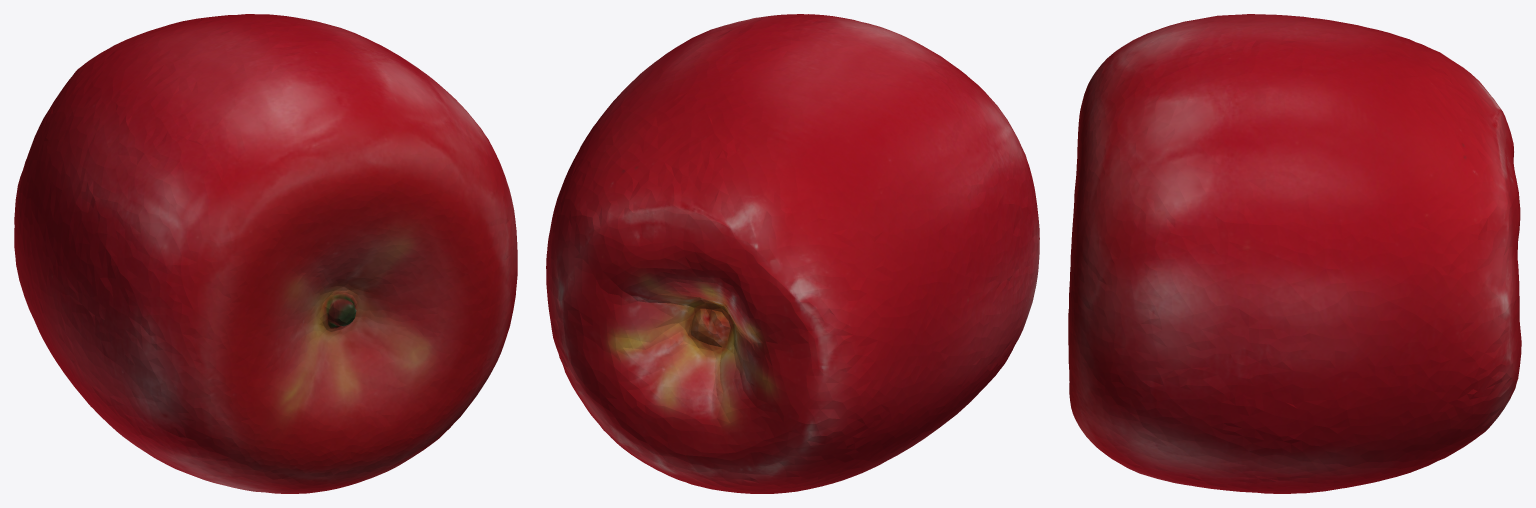
The model's file is apple.glb.
3 renders of one model, left to right at view 1: azimuth 30°, elevation 25°; view 2: azimuth 150°, elevation 25°; view 3: azimuth 270°, elevation 25°, orthographic. The views are drawn at different scales.
Visible parts, largest first — view 1: textured.obj; view 2: textured.obj; view 3: textured.obj.
Part boxes in pixels (x1,y1,x2,y2): textured.obj: (14, 14, 517, 493); textured.obj: (546, 14, 1039, 493); textured.obj: (1068, 14, 1521, 493).
Bounding box in the file's own units: 0.0747 × 0.0747 × 0.0712.
1 material, 1 textured.
